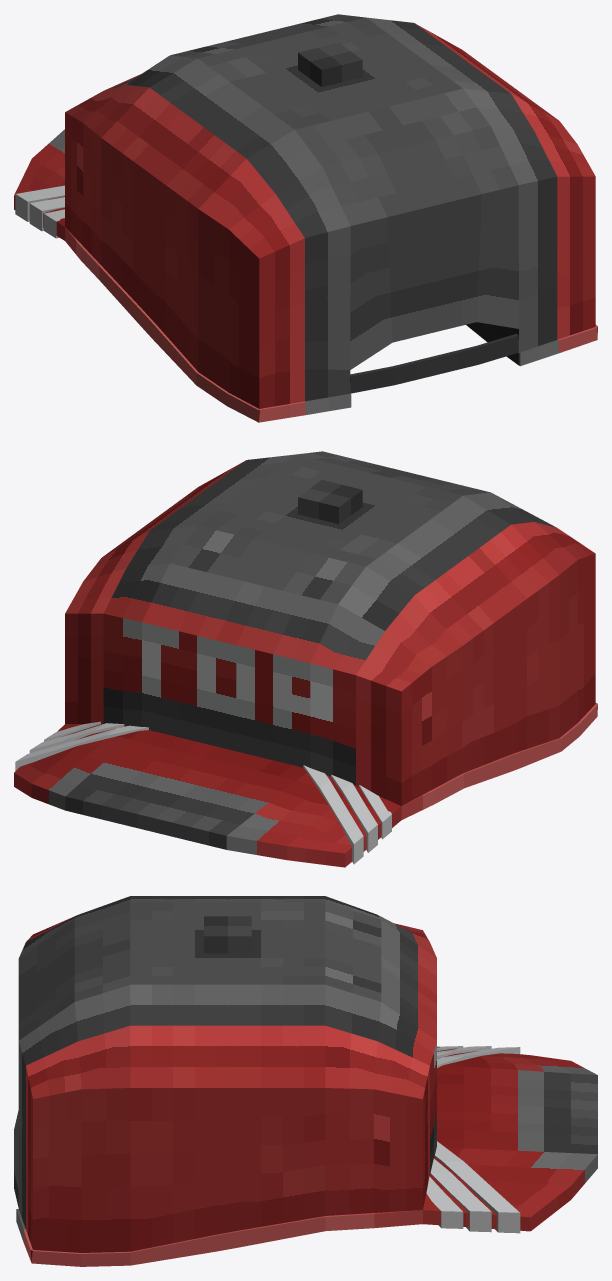
Rendered from baseball_cap_top.glb.
3 renders of one model, top to bottom at view 1: azimuth 30°, elevation 25°; view 2: azimuth 150°, elevation 25°; view 3: azimuth 270°, elevation 25°, orthographic.
Visible parts, largest first — view 1: head; view 2: head; view 3: head.
Part boxes in pixels (<box>): head: <box>14,14,597,422</box>; head: <box>14,451,597,867</box>; head: <box>14,896,597,1266</box>.
Bounding box in the file's own units: 0.5562 × 0.3687 × 0.7678.
Materials: 1 (1 with a texture image).
